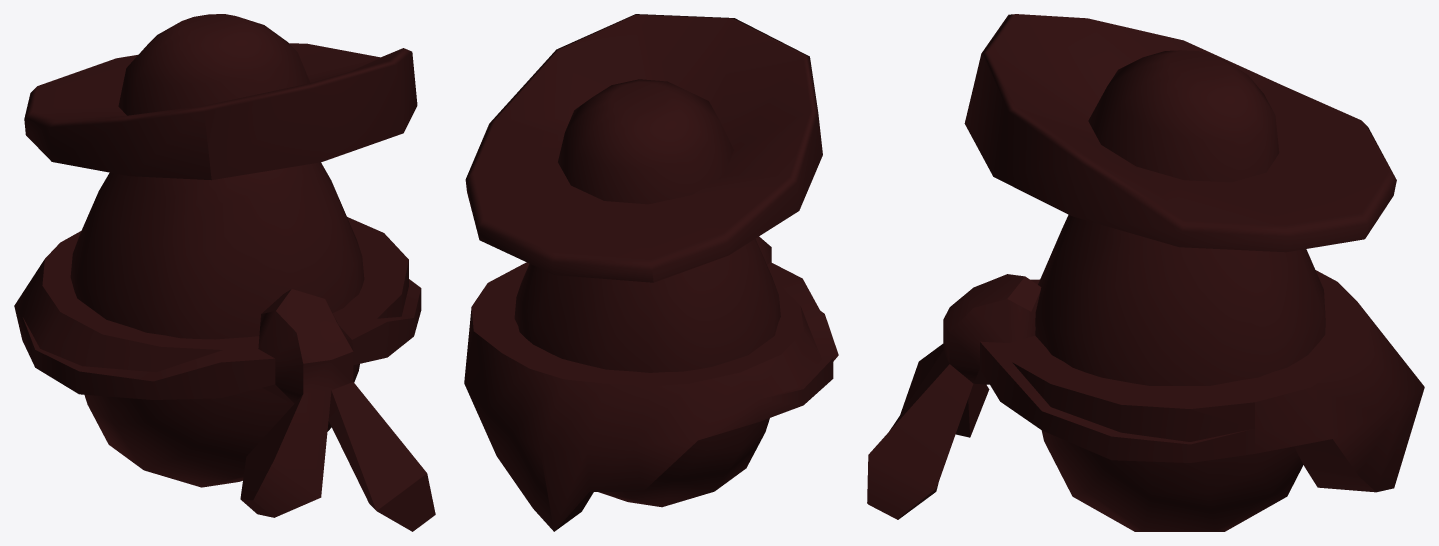
Rendered from Villain.fbx.
3 renders of one model, left to right at view 1: azimuth 30°, elevation 25°; view 2: azimuth 150°, elevation 25°; view 3: azimuth 270°, elevation 25°, orthographic. The views are drawn at different scales.
Visible parts, largest first — view 1: Villain; view 2: Villain; view 3: Villain.
Boxes of the visible parts, x1,y1,x2,y2 form: Villain: (14, 14, 435, 531); Villain: (464, 14, 838, 531); Villain: (867, 14, 1424, 531).
Bounding box in the file's own units: 475 × 577 × 627.
